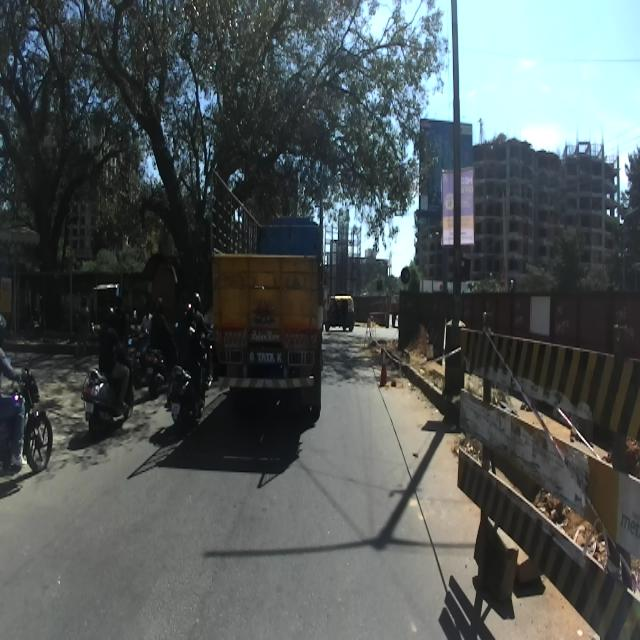motorcycle ahead at: (78, 365, 122, 439)
truck ahead at: (200, 168, 334, 424)
